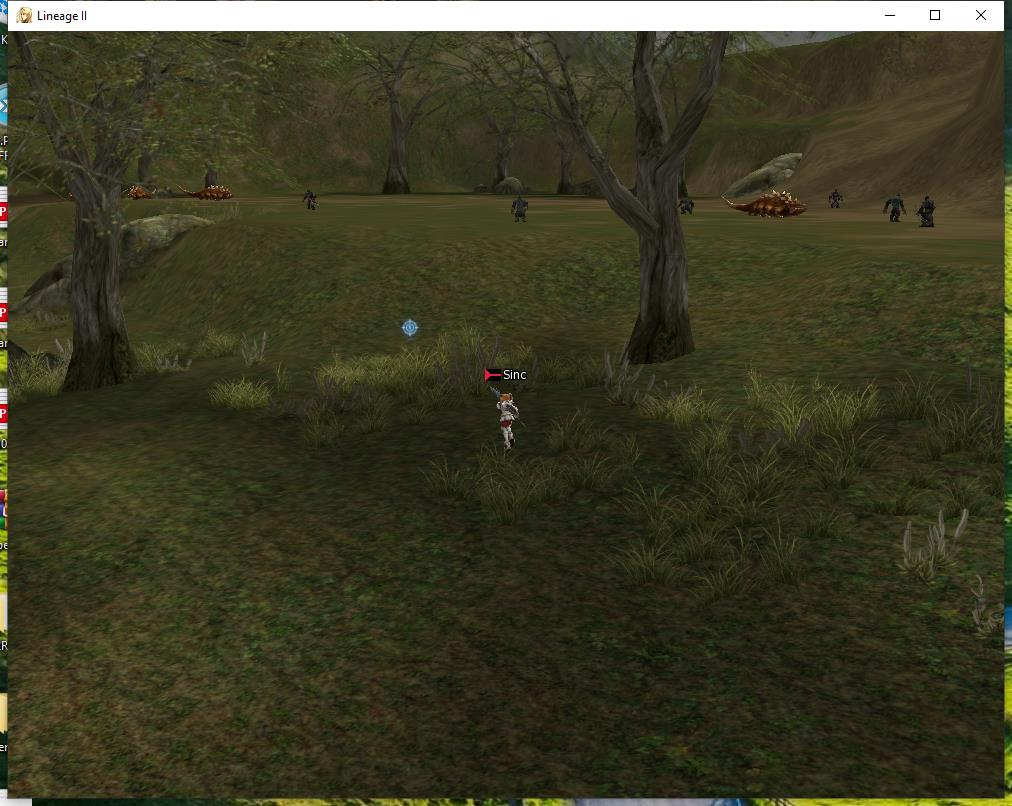monster: (725, 185, 808, 219), (176, 173, 239, 202), (878, 185, 905, 225), (912, 196, 939, 228), (506, 194, 534, 222), (301, 182, 323, 212), (825, 186, 842, 212)
